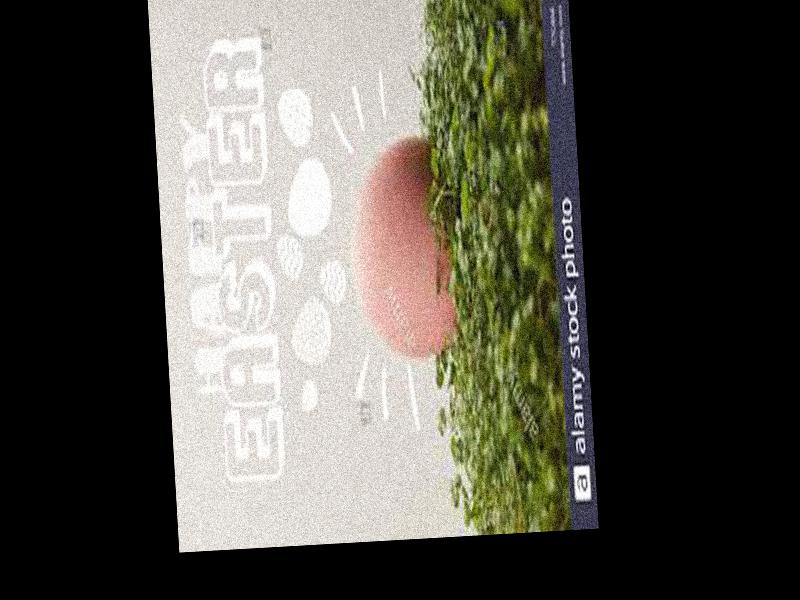Eggs: (346, 131, 459, 358)
